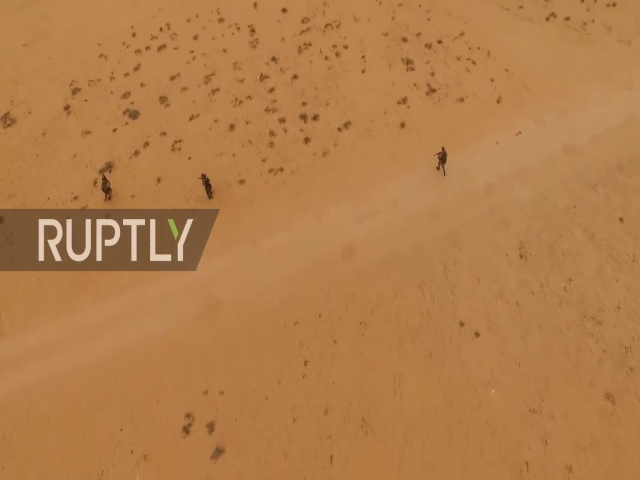person: (195, 171, 215, 200), (433, 145, 449, 177), (97, 174, 114, 201)
